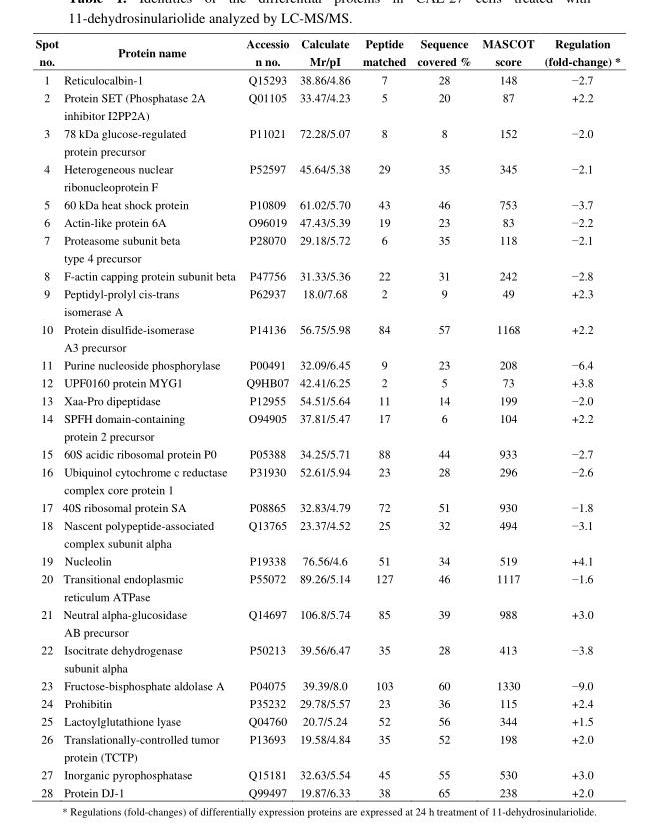table: (34, 34, 619, 799)
table column: (59, 34, 240, 799), (538, 34, 619, 799), (410, 34, 476, 799), (293, 34, 355, 799), (476, 34, 538, 799), (355, 34, 410, 799), (240, 34, 293, 799), (34, 34, 59, 799)
table column header: (34, 34, 619, 70)
table row: (34, 34, 619, 70), (34, 87, 619, 123), (34, 123, 619, 159), (34, 283, 619, 319), (34, 319, 619, 355), (34, 408, 619, 444), (34, 461, 619, 497), (34, 515, 619, 551), (34, 568, 619, 604), (34, 604, 619, 640), (34, 159, 619, 194), (34, 230, 619, 265), (34, 640, 619, 675), (34, 729, 619, 764), (34, 194, 619, 212), (34, 212, 619, 230), (34, 265, 619, 283), (34, 372, 619, 390), (34, 390, 619, 408), (34, 497, 619, 515), (34, 675, 619, 693), (34, 693, 619, 711), (34, 711, 619, 729), (34, 764, 619, 782), (34, 70, 619, 87), (34, 355, 619, 372), (34, 444, 619, 461), (34, 551, 619, 568), (34, 782, 619, 799)
